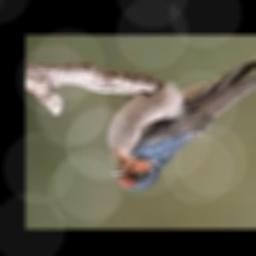Swallow: (106, 43, 256, 190)
